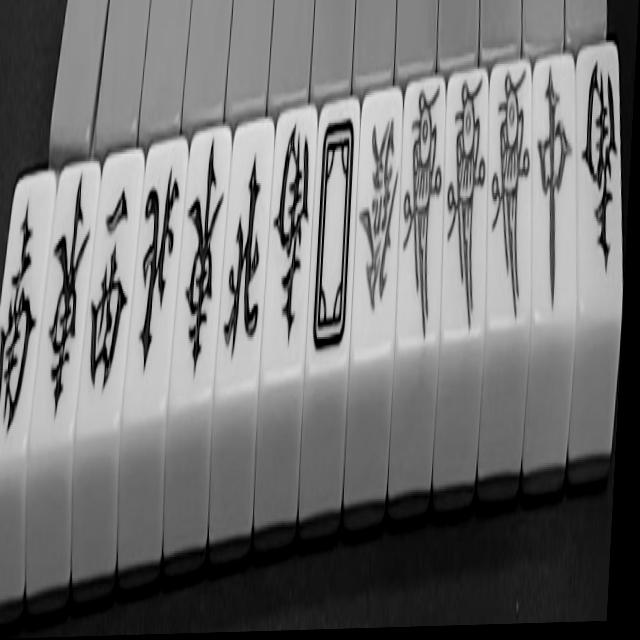1B: (388, 61, 450, 365), (433, 54, 497, 341), (478, 54, 538, 338)
EW: (43, 171, 92, 417), (178, 137, 228, 378)
GD: (346, 79, 405, 361)
NW: (134, 152, 182, 372), (221, 144, 268, 368)
RD: (528, 61, 577, 316)
SW: (266, 115, 315, 347), (575, 55, 624, 283), (0, 194, 44, 434)
WD: (306, 107, 357, 371)
WW: (85, 182, 137, 404)
